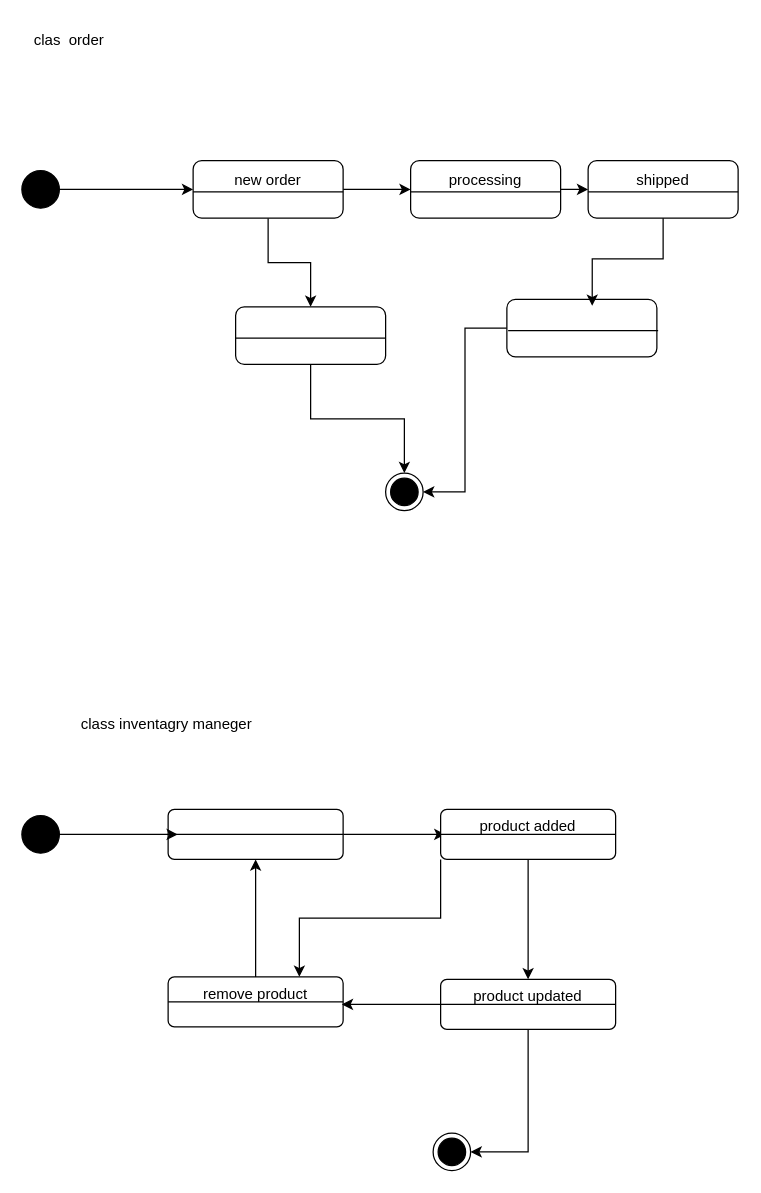
This 761x1193 diagram has some shape labels left out. Each missing label, with the centre of its shape:
cancelled: (x=310, y=335)
deliverd: (x=581, y=327)
empty inventory: (x=255, y=833)
